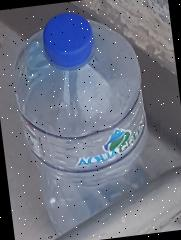plastic: (4, 5, 160, 239)
